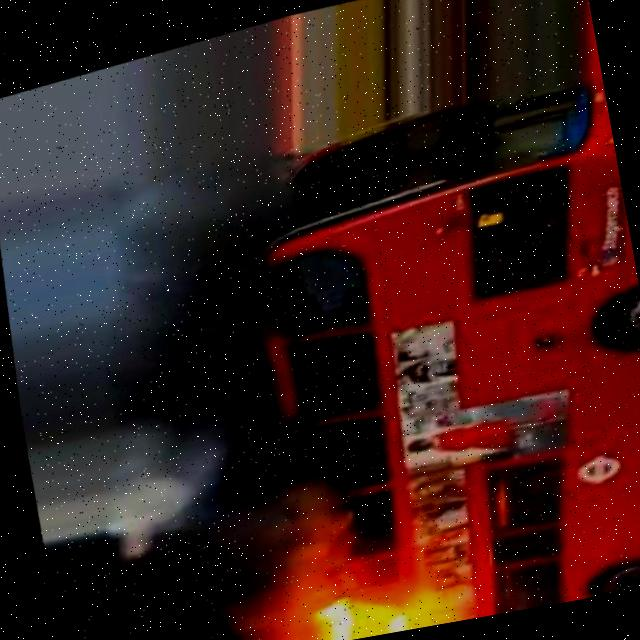fire: (298, 566, 439, 640)
